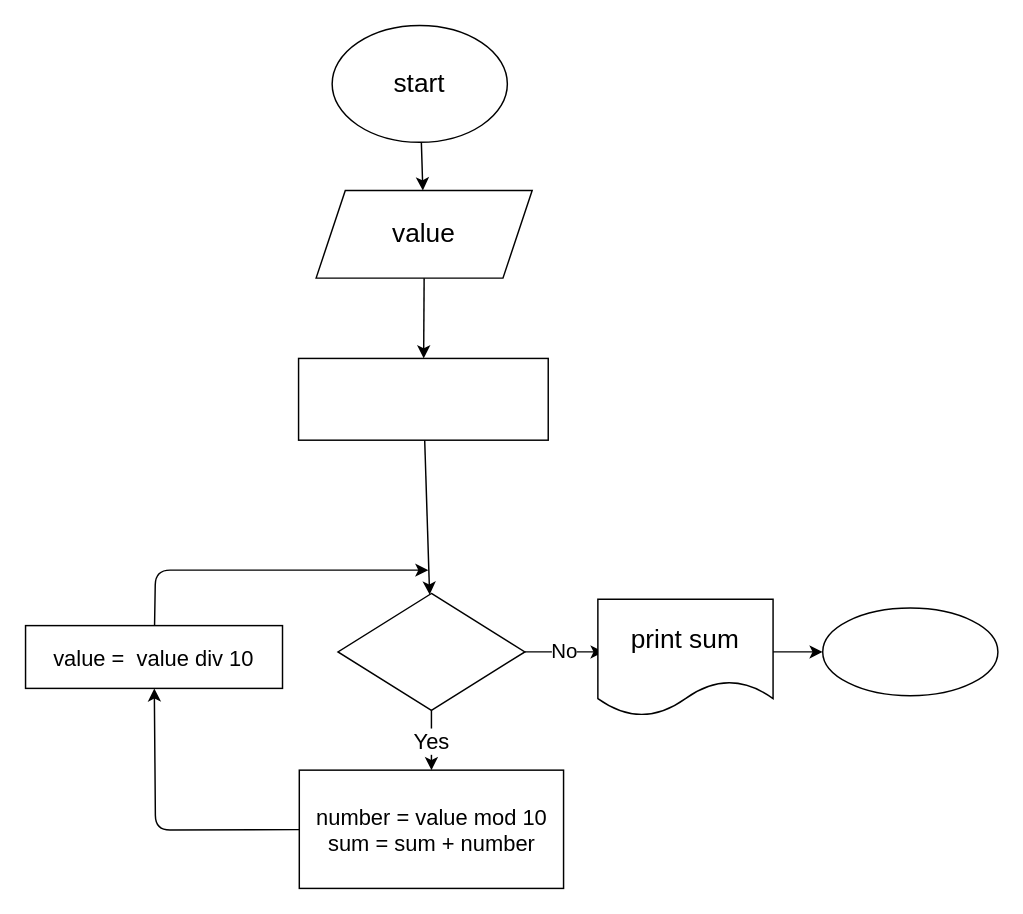
Image size: 1023x914. Some labels were removed from this diagram. Here are the shapes that lost their labels. From the top down, the centre of each, then its label:
(422,398): sum = 0
(431,651): value > 0
(909,651): end
